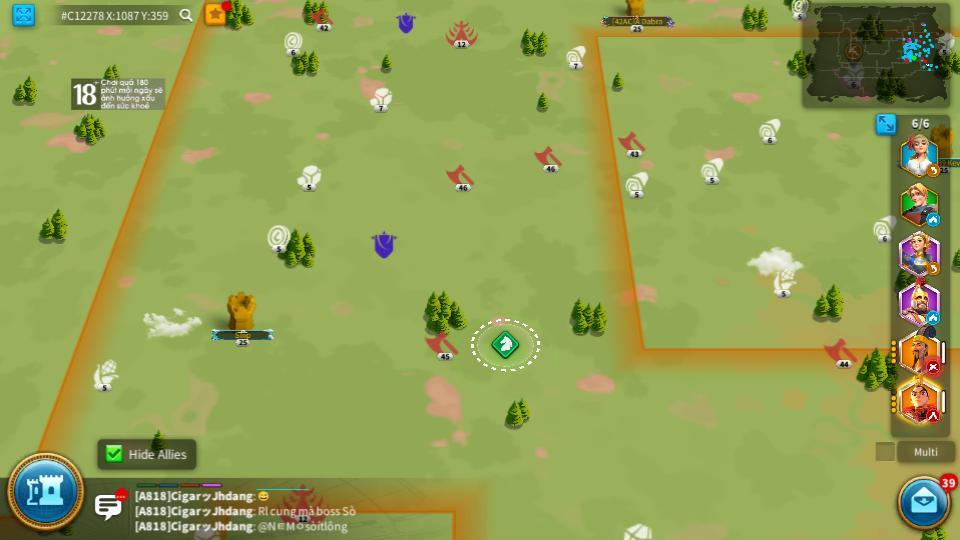gem-z-out: (622, 524, 654, 539)
march_attacking: (926, 362, 941, 373), (926, 409, 941, 420)
march_idle: (927, 312, 940, 324), (927, 214, 941, 225)
march_returning: (926, 165, 940, 177), (925, 263, 938, 274)
